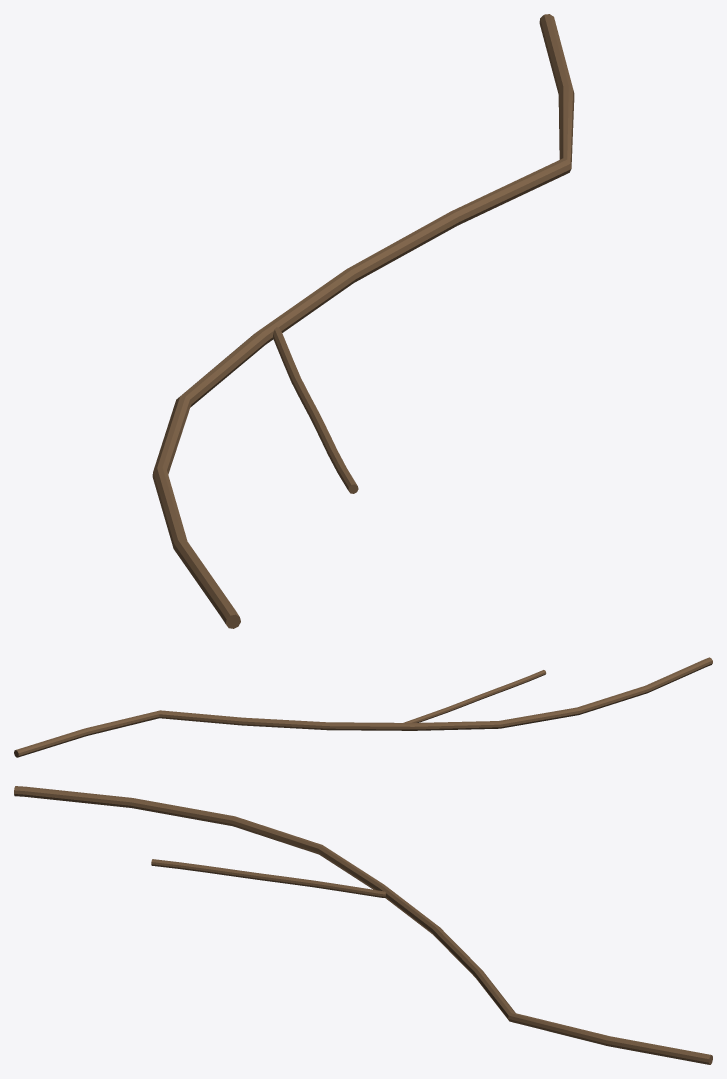
3 renders of one model, top to bottom at view 1: azimuth 30°, elevation 25°; view 2: azimuth 150°, elevation 25°; view 3: azimuth 270°, elevation 25°, orthographic. The views are drawn at different scales.
Parts seen in each view (by area): view 1: group121_pasted__pasted__pasted__pasted__pasted__pCylinder3; view 2: group121_pasted__pasted__pasted__pasted__pasted__pCylinder3; view 3: group121_pasted__pasted__pasted__pasted__pasted__pCylinder3.
Boxes of the visible parts, x1=… form: group121_pasted__pasted__pasted__pasted__pasted__pCylinder3: x1=152, y1=14, x2=574, y2=628; group121_pasted__pasted__pasted__pasted__pasted__pCylinder3: x1=14, y1=657, x2=712, y2=757; group121_pasted__pasted__pasted__pasted__pasted__pCylinder3: x1=14, y1=786, x2=712, y2=1064.
Size of the model in its own units: 15.87 by 0.2607 by 17.17.
